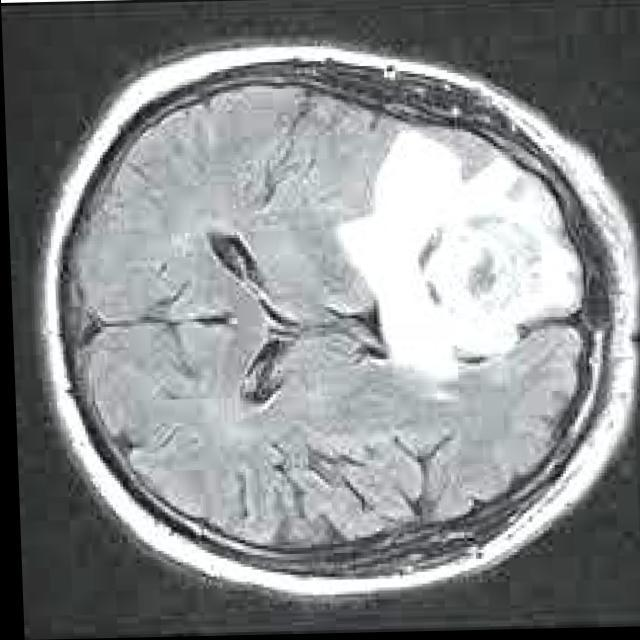Tumor: (343, 132, 578, 380)
